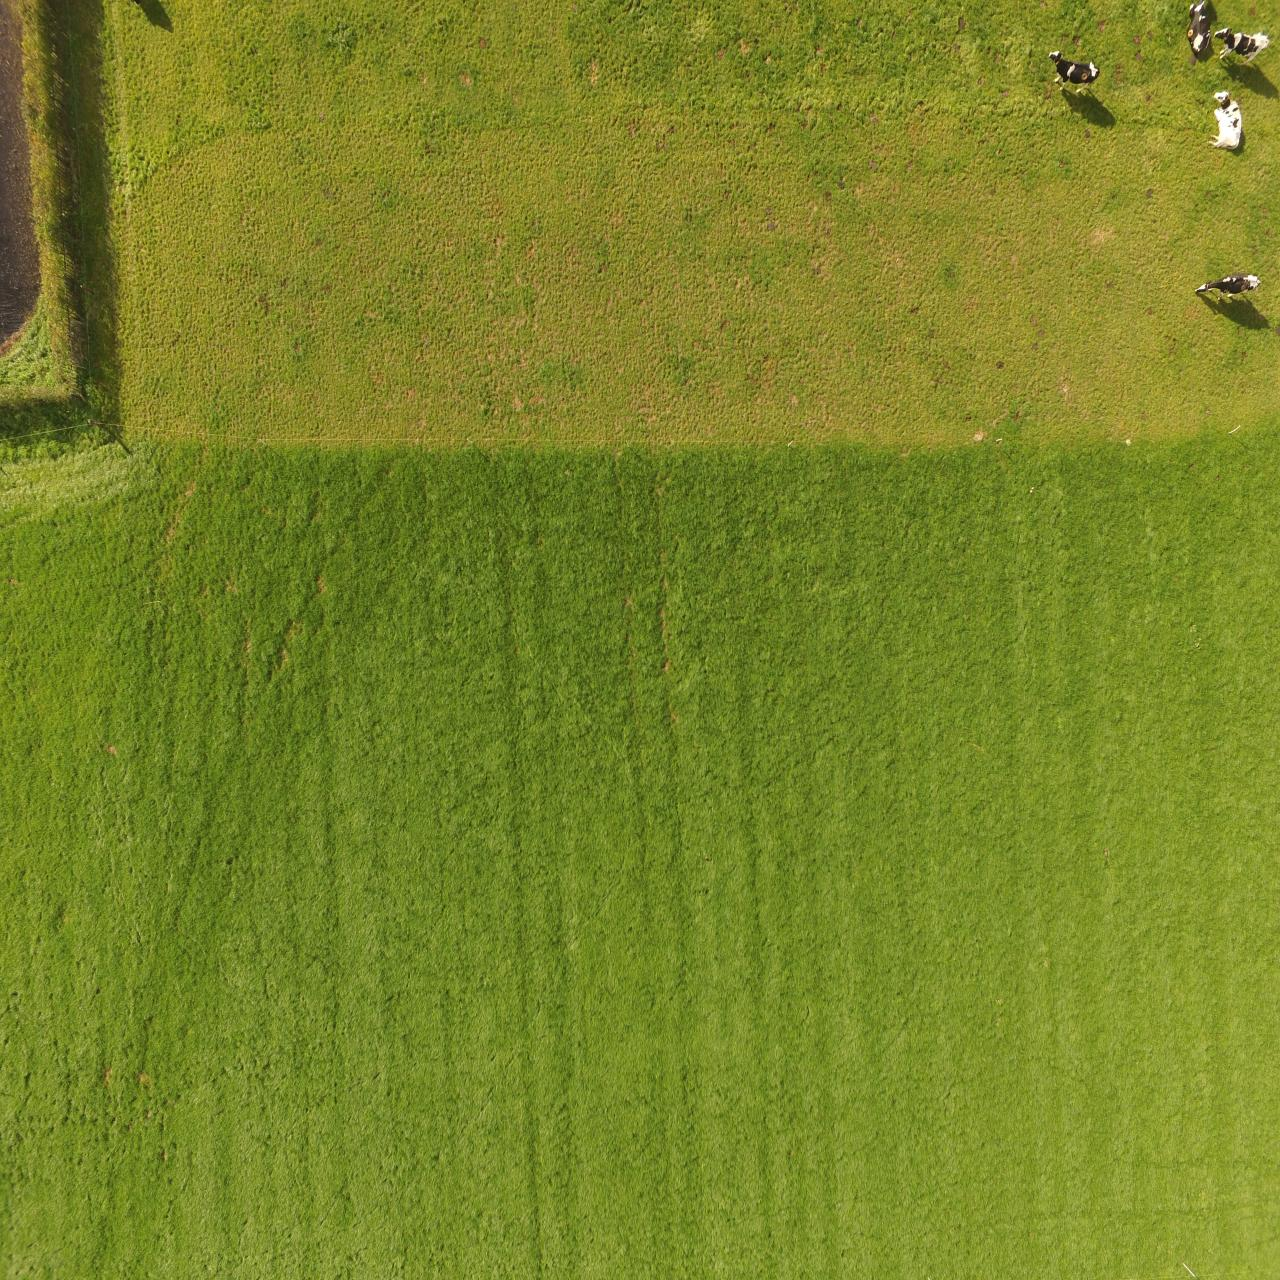cow: (1049, 50, 1101, 95), (1208, 89, 1242, 154), (1214, 26, 1269, 64), (1194, 272, 1260, 300), (1186, 0, 1218, 55)
